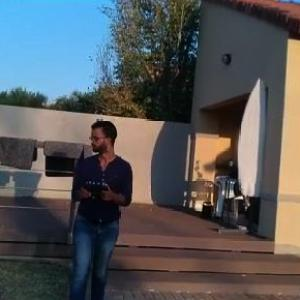follow: (64, 113, 136, 299)
